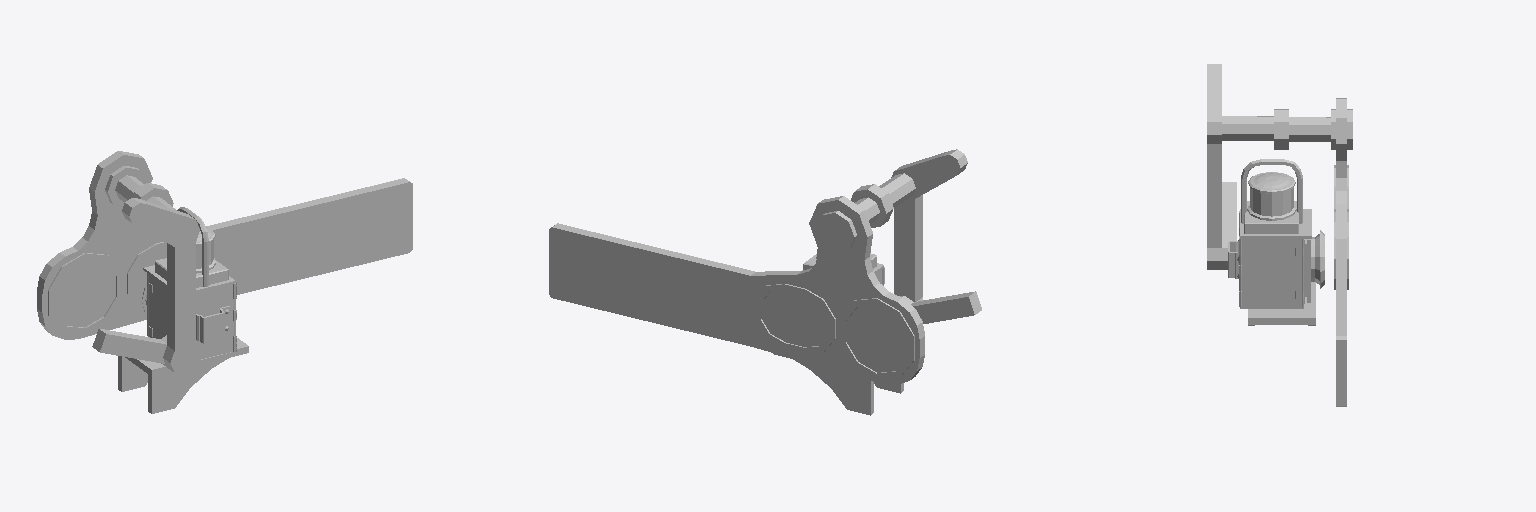
The model's file is lms_call_uq_danger.obj.
3 views of the same model, side by side, from view 1: azimuth 30°, elevation 25°; view 2: azimuth 150°, elevation 25°; view 3: azimuth 270°, elevation 25° (orthographic).
Visible parts, largest first — view 1: Calling_on_Danger_Cube.036; view 2: Calling_on_Danger_Cube.036; view 3: Calling_on_Danger_Cube.036.
Boxes of the visible parts, box(x1,y1,x2,y2) form: Calling_on_Danger_Cube.036: box(37, 151, 412, 413); Calling_on_Danger_Cube.036: box(549, 149, 981, 415); Calling_on_Danger_Cube.036: box(1207, 64, 1352, 406).
Bounding box in the file's own units: 1.14 × 0.6884 × 0.3906.